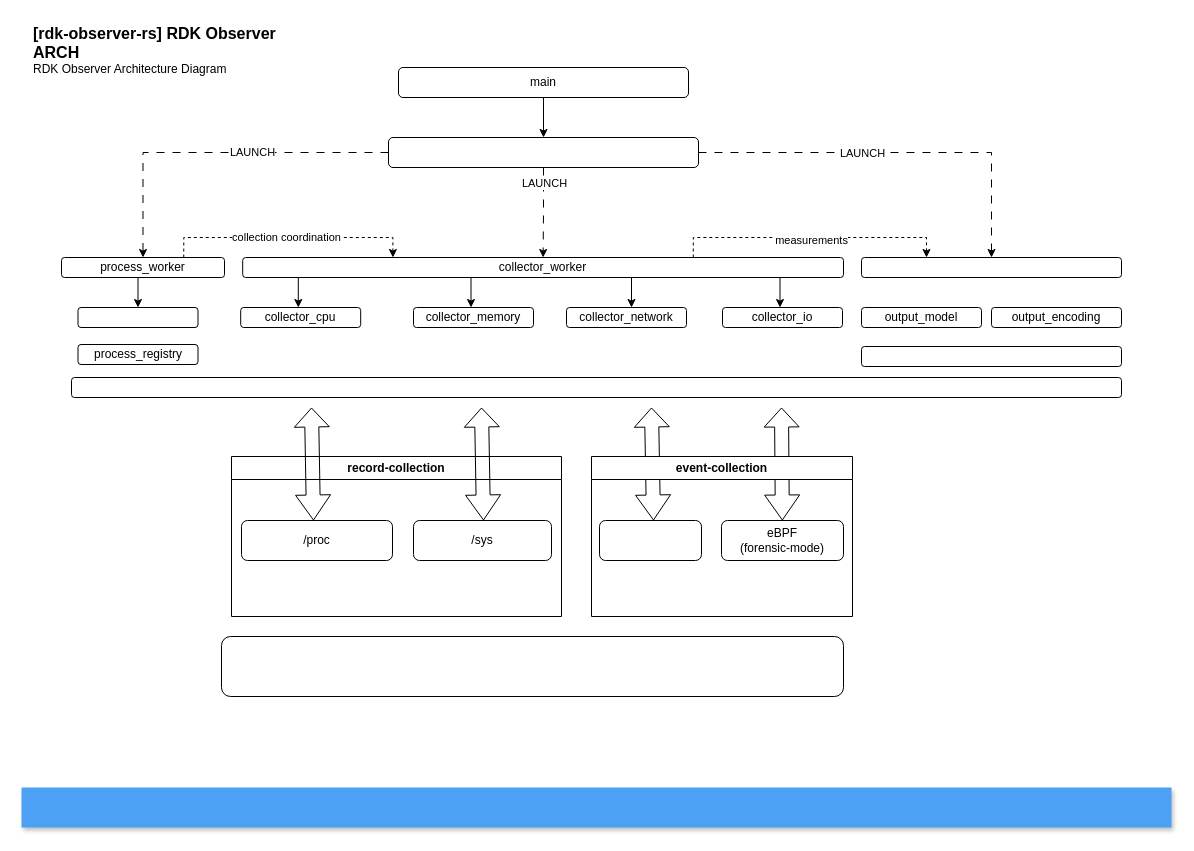
Some shapes in this 1194 by 851 pixel diagram are drawn without their labels. Here are the shapes that lost their labels. From the top down, the centre of each, then its label:
At pixel 543 152: "runtime".
At pixel 991 267: "output_worker".
At pixel 137 317: "process_discovery".
At pixel 991 356: "output_storage".
At pixel 596 387: "linux-interfaces".
At pixel 650 540: "netlink (both-modes)".
At pixel 532 666: "KERNEL".
At pixel 597 808: "Architecture: rdk-observer-rs".
